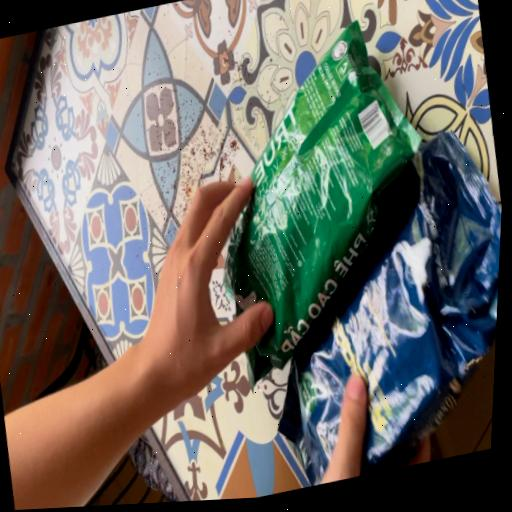cafe_hat: (279, 131, 501, 485)
cafe_xay: (224, 20, 421, 382)
